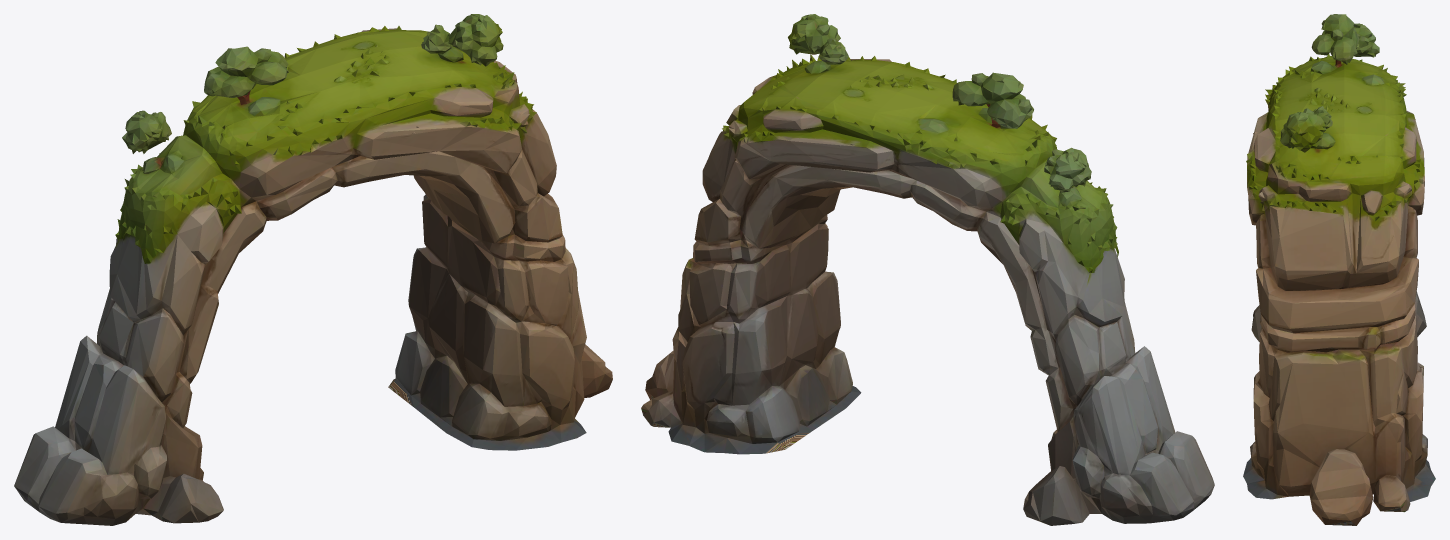
The model's file is arch.glb.
3 renders of one model, left to right at view 1: azimuth 30°, elevation 25°; view 2: azimuth 150°, elevation 25°; view 3: azimuth 270°, elevation 25°, orthographic. The views are drawn at different scales.
Visible parts, largest first — view 1: arch; view 2: arch; view 3: arch.
Boxes of the visible parts, box(x1,y1,x2,y2) form: arch: box(14, 14, 612, 525); arch: box(641, 14, 1214, 525); arch: box(1243, 14, 1435, 525).
Bounding box in the file's own units: 110 × 77.75 × 37.65.
1 material, 1 textured.
